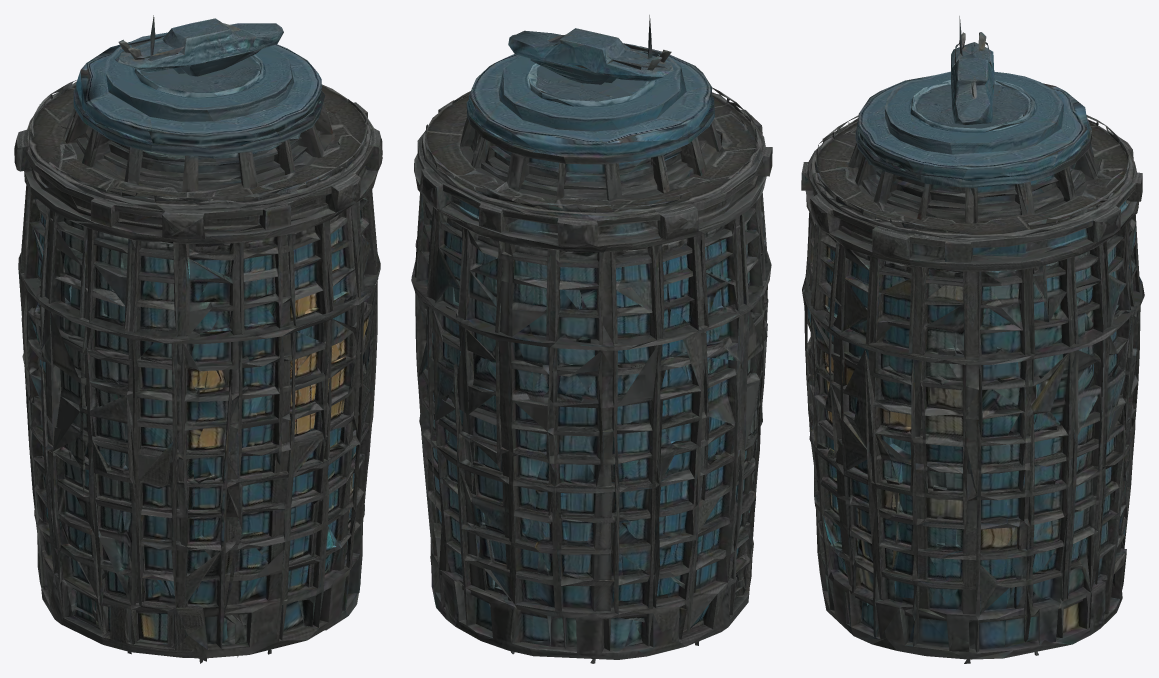
The model's file is mx_bld_tower_round.glb.
The picture shows the model from 3 angles, left to right: view 1: azimuth 30°, elevation 25°; view 2: azimuth 150°, elevation 25°; view 3: azimuth 270°, elevation 25°; orthographic projection. The views are drawn at different scales.
Size of the model in its own units: 1.04 by 1.9 by 1.04.
Materials: 1 (1 with a texture image).
